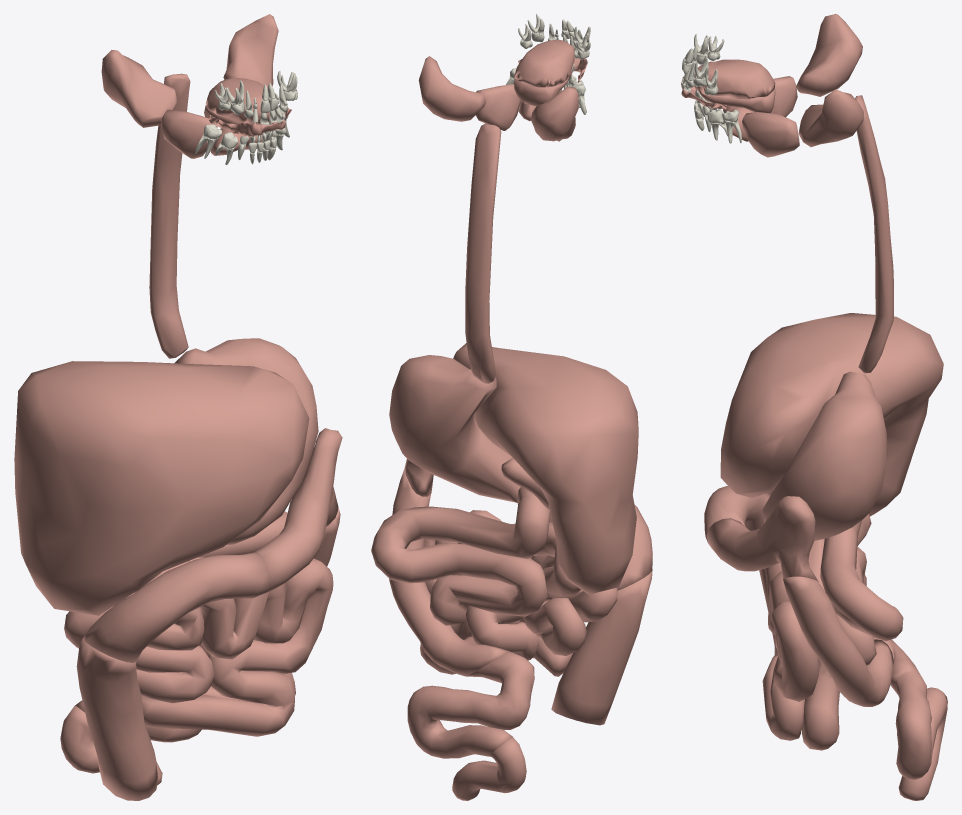
File: pediatric_infant_female.digestive.LOD1.glb
The picture shows the model from 3 angles, left to right: view 1: azimuth 30°, elevation 25°; view 2: azimuth 150°, elevation 25°; view 3: azimuth 270°, elevation 25°; orthographic projection. The views are drawn at different scales.
Parts seen in each view (by area): view 1: PEDIATRIC.INFANT.FEMALE.DIGESTIVE.LIVER, PEDIATRIC.INFANT.FEMALE.DIGESTIVE.SMALL_INTESTINE_WALL, PEDIATRIC.INFANT.FEMALE.DIGESTIVE.TRANSVERSE_COLON_WALL.R, PEDIATRIC.INFANT.FEMALE.DIGESTIVE.ASCENDING_COLON_WALL, PEDIATRIC.INFANT.FEMALE.DIGESTIVE.OESOPHAGUS_WALL, PEDIATRIC.INFANT.FEMALE.DIGESTIVE.TRANSVERSE_COLON_WALL.L, PEDIATRIC.INFANT.FEMALE.DIGESTIVE.SALIVARY_GLANDS.R, PEDIATRIC.INFANT.FEMALE.DIGESTIVE.STOMACH_WALL, PEDIATRIC.INFANT.FEMALE.DIGESTIVE.SALIVARY_GLANDS.L, PEDIATRIC.INFANT.FEMALE.DIGESTIVE.DECIDUOUS_CEMENTUM, PEDIATRIC.INFANT.FEMALE.DIGESTIVE.RECTUM_WALL, PEDIATRIC.INFANT.FEMALE.DIGESTIVE.ORAL_MUCOSA_MOUTH_FLOOR (+4 smaller); view 2: PEDIATRIC.INFANT.FEMALE.DIGESTIVE.LIVER, PEDIATRIC.INFANT.FEMALE.DIGESTIVE.SMALL_INTESTINE_WALL, PEDIATRIC.INFANT.FEMALE.DIGESTIVE.STOMACH_WALL, PEDIATRIC.INFANT.FEMALE.DIGESTIVE.SIGMOID_COLON_WALL, PEDIATRIC.INFANT.FEMALE.DIGESTIVE.ASCENDING_COLON_WALL, PEDIATRIC.INFANT.FEMALE.DIGESTIVE.OESOPHAGUS_WALL, PEDIATRIC.INFANT.FEMALE.DIGESTIVE.DESCENDING_COLON_WALL, PEDIATRIC.INFANT.FEMALE.DIGESTIVE.SALIVARY_GLANDS.L, PEDIATRIC.INFANT.FEMALE.DIGESTIVE.RECTUM_WALL, PEDIATRIC.INFANT.FEMALE.DIGESTIVE.ORAL_MUCOSA_MOUTH_FLOOR, PEDIATRIC.INFANT.FEMALE.DIGESTIVE.SALIVARY_GLANDS.R, PEDIATRIC.INFANT.FEMALE.DIGESTIVE.TRANSVERSE_COLON_WALL.R (+5 smaller); view 3: PEDIATRIC.INFANT.FEMALE.DIGESTIVE.LIVER, PEDIATRIC.INFANT.FEMALE.DIGESTIVE.SMALL_INTESTINE_WALL, PEDIATRIC.INFANT.FEMALE.DIGESTIVE.STOMACH_WALL, PEDIATRIC.INFANT.FEMALE.DIGESTIVE.DESCENDING_COLON_WALL, PEDIATRIC.INFANT.FEMALE.DIGESTIVE.TRANSVERSE_COLON_WALL.L, PEDIATRIC.INFANT.FEMALE.DIGESTIVE.SALIVARY_GLANDS.L, PEDIATRIC.INFANT.FEMALE.DIGESTIVE.SIGMOID_COLON_WALL, PEDIATRIC.INFANT.FEMALE.DIGESTIVE.OESOPHAGUS_WALL, PEDIATRIC.INFANT.FEMALE.DIGESTIVE.SALIVARY_GLANDS.R, PEDIATRIC.INFANT.FEMALE.DIGESTIVE.ORAL_MUCOSA_MOUTH_FLOOR, PEDIATRIC.INFANT.FEMALE.DIGESTIVE.TRANSVERSE_COLON_WALL.R, PEDIATRIC.INFANT.FEMALE.DIGESTIVE.DECIDUOUS_CEMENTUM (+3 smaller).
Boxes of the visible parts, left/top/right/bottom form: PEDIATRIC.INFANT.FEMALE.DIGESTIVE.LIVER: left=14, top=361, right=309, bottom=615; PEDIATRIC.INFANT.FEMALE.DIGESTIVE.SMALL_INTESTINE_WALL: left=64, top=511, right=333, bottom=736; PEDIATRIC.INFANT.FEMALE.DIGESTIVE.TRANSVERSE_COLON_WALL.R: left=83, top=552, right=269, bottom=662; PEDIATRIC.INFANT.FEMALE.DIGESTIVE.ASCENDING_COLON_WALL: left=76, top=638, right=158, bottom=800; PEDIATRIC.INFANT.FEMALE.DIGESTIVE.OESOPHAGUS_WALL: left=149, top=73, right=190, bottom=358; PEDIATRIC.INFANT.FEMALE.DIGESTIVE.TRANSVERSE_COLON_WALL.L: left=253, top=428, right=342, bottom=593; PEDIATRIC.INFANT.FEMALE.DIGESTIVE.SALIVARY_GLANDS.R: left=101, top=50, right=241, bottom=158; PEDIATRIC.INFANT.FEMALE.DIGESTIVE.STOMACH_WALL: left=174, top=338, right=318, bottom=544; PEDIATRIC.INFANT.FEMALE.DIGESTIVE.SALIVARY_GLANDS.L: left=223, top=14, right=278, bottom=149; PEDIATRIC.INFANT.FEMALE.DIGESTIVE.DECIDUOUS_CEMENTUM: left=195, top=71, right=297, bottom=164; PEDIATRIC.INFANT.FEMALE.DIGESTIVE.RECTUM_WALL: left=60, top=705, right=162, bottom=785; PEDIATRIC.INFANT.FEMALE.DIGESTIVE.ORAL_MUCOSA_MOUTH_FLOOR: left=205, top=77, right=269, bottom=123; PEDIATRIC.INFANT.FEMALE.DIGESTIVE.LIVER: left=453, top=343, right=638, bottom=594; PEDIATRIC.INFANT.FEMALE.DIGESTIVE.SMALL_INTESTINE_WALL: left=371, top=487, right=617, bottom=676; PEDIATRIC.INFANT.FEMALE.DIGESTIVE.STOMACH_WALL: left=389, top=355, right=520, bottom=502; PEDIATRIC.INFANT.FEMALE.DIGESTIVE.SIGMOID_COLON_WALL: left=407, top=650, right=534, bottom=758; PEDIATRIC.INFANT.FEMALE.DIGESTIVE.ASCENDING_COLON_WALL: left=551, top=569, right=652, bottom=725; PEDIATRIC.INFANT.FEMALE.DIGESTIVE.OESOPHAGUS_WALL: left=465, top=123, right=501, bottom=383; PEDIATRIC.INFANT.FEMALE.DIGESTIVE.DESCENDING_COLON_WALL: left=389, top=468, right=507, bottom=676; PEDIATRIC.INFANT.FEMALE.DIGESTIVE.SALIVARY_GLANDS.L: left=418, top=56, right=535, bottom=130; PEDIATRIC.INFANT.FEMALE.DIGESTIVE.RECTUM_WALL: left=452, top=737, right=526, bottom=800; PEDIATRIC.INFANT.FEMALE.DIGESTIVE.ORAL_MUCOSA_MOUTH_FLOOR: left=514, top=40, right=574, bottom=87; PEDIATRIC.INFANT.FEMALE.DIGESTIVE.SALIVARY_GLANDS.R: left=530, top=86, right=578, bottom=141; PEDIATRIC.INFANT.FEMALE.DIGESTIVE.TRANSVERSE_COLON_WALL.R: left=617, top=504, right=652, bottom=590; PEDIATRIC.INFANT.FEMALE.DIGESTIVE.LIVER: left=720, top=313, right=943, bottom=516; PEDIATRIC.INFANT.FEMALE.DIGESTIVE.SMALL_INTESTINE_WALL: left=762, top=514, right=903, bottom=750; PEDIATRIC.INFANT.FEMALE.DIGESTIVE.STOMACH_WALL: left=762, top=371, right=887, bottom=540; PEDIATRIC.INFANT.FEMALE.DIGESTIVE.DESCENDING_COLON_WALL: left=783, top=576, right=893, bottom=706; PEDIATRIC.INFANT.FEMALE.DIGESTIVE.TRANSVERSE_COLON_WALL.L: left=706, top=496, right=818, bottom=581; PEDIATRIC.INFANT.FEMALE.DIGESTIVE.SALIVARY_GLANDS.L: left=723, top=89, right=863, bottom=157; PEDIATRIC.INFANT.FEMALE.DIGESTIVE.SIGMOID_COLON_WALL: left=873, top=637, right=947, bottom=779; PEDIATRIC.INFANT.FEMALE.DIGESTIVE.OESOPHAGUS_WALL: left=855, top=95, right=893, bottom=373; PEDIATRIC.INFANT.FEMALE.DIGESTIVE.SALIVARY_GLANDS.R: left=723, top=14, right=862, bottom=117; PEDIATRIC.INFANT.FEMALE.DIGESTIVE.ORAL_MUCOSA_MOUTH_FLOOR: left=694, top=59, right=775, bottom=99; PEDIATRIC.INFANT.FEMALE.DIGESTIVE.TRANSVERSE_COLON_WALL.R: left=704, top=486, right=768, bottom=542; PEDIATRIC.INFANT.FEMALE.DIGESTIVE.DECIDUOUS_CEMENTUM: left=682, top=34, right=741, bottom=143.
Size of the model in its own units: 0.1371 by 0.3663 by 0.1172.
